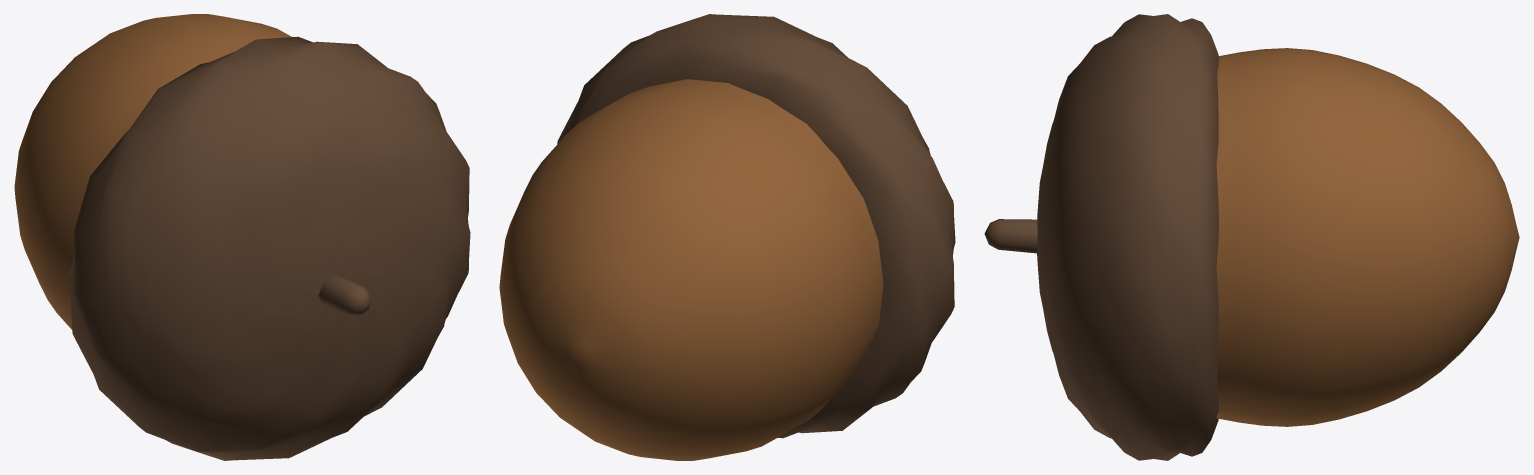
The model's file is sh_acorn.fbx.
The picture shows the model from 3 angles, left to right: view 1: azimuth 30°, elevation 25°; view 2: azimuth 150°, elevation 25°; view 3: azimuth 270°, elevation 25°; orthographic projection.
Visible parts, largest first — view 1: SH_Acorn; view 2: SH_Acorn; view 3: SH_Acorn.
Part boxes in pixels (<box>): SH_Acorn: <box>14,14,470,460</box>; SH_Acorn: <box>499,14,955,460</box>; SH_Acorn: <box>984,14,1519,460</box>.
Bounding box in the file's own units: 7.23 × 7.08 × 8.53.
